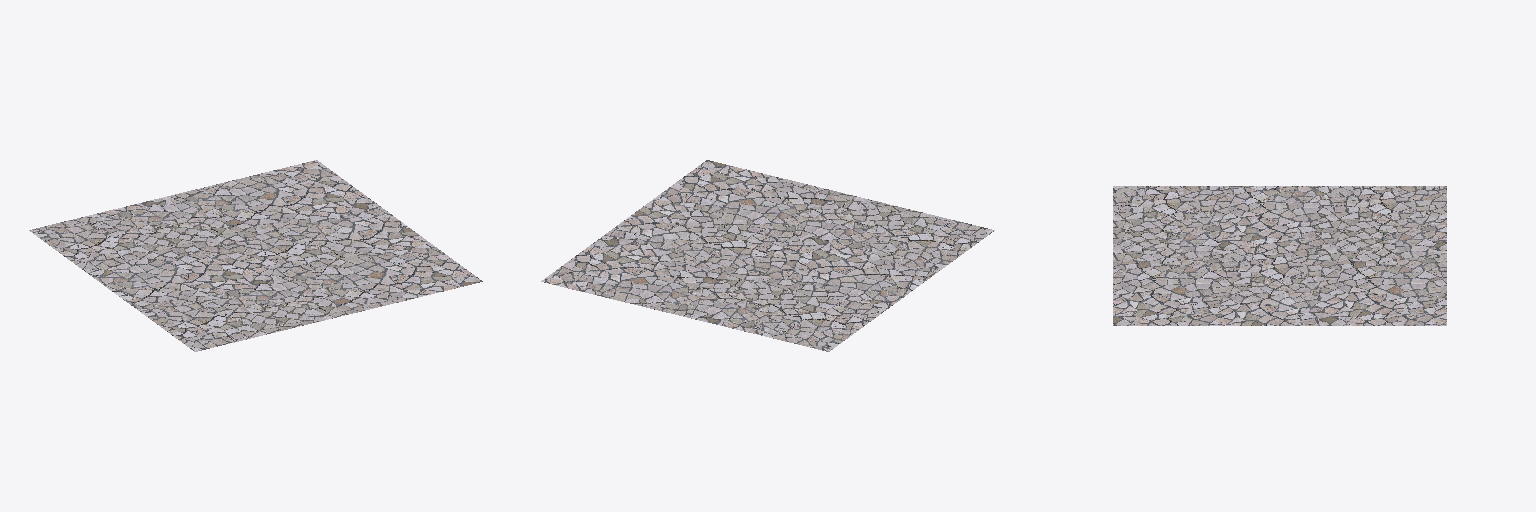
The picture shows the model from 3 angles: view 1: azimuth 30°, elevation 25°; view 2: azimuth 150°, elevation 25°; view 3: azimuth 270°, elevation 25°; orthographic projection.
Visible parts, largest first — view 1: Cube; view 2: Cube; view 3: Cube.
Part boxes in pixels (bbox=[...]): Cube: bbox=[29, 160, 482, 351]; Cube: bbox=[541, 160, 994, 351]; Cube: bbox=[1113, 186, 1446, 325].
Bounding box in the file's own units: 2 × 0 × 2.
Materials: 1 (1 with a texture image).